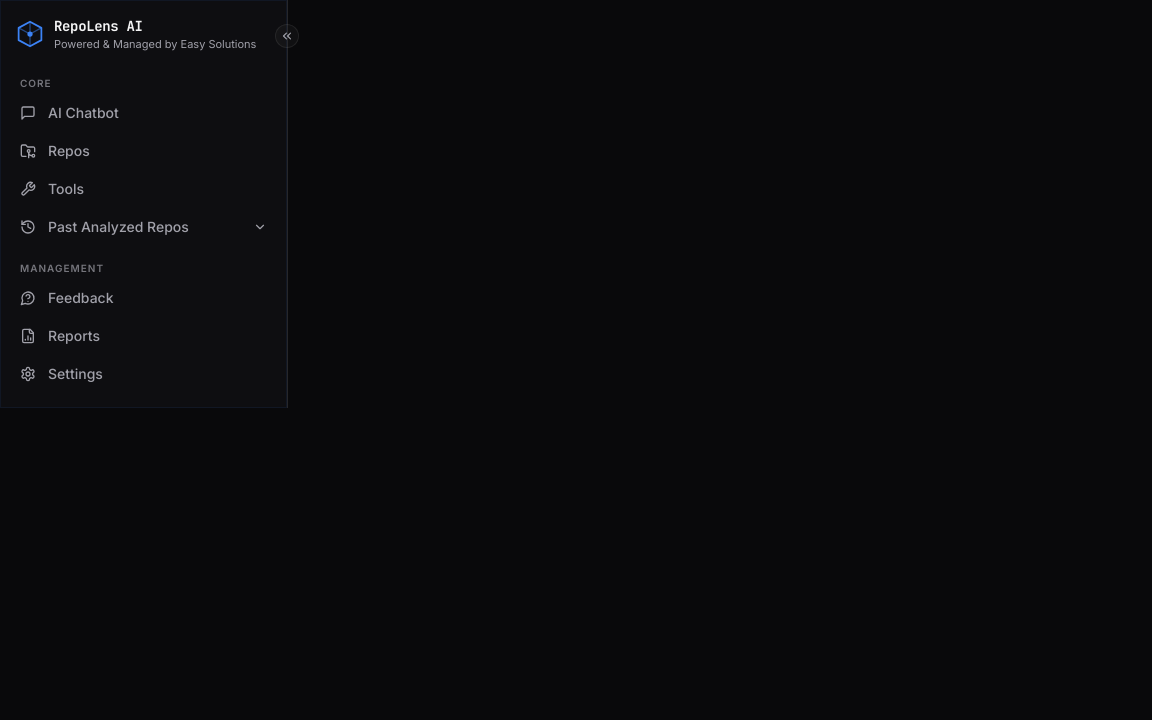
Test: AppSidebar › opens the Reports modal, scoped to the active repo, when Reports is clicked
What coordinates should you click on to do the following:
click the button "Reports"
I would click on:
 (74, 335)
Its box is x1=8 y1=318 x2=279 y2=354.
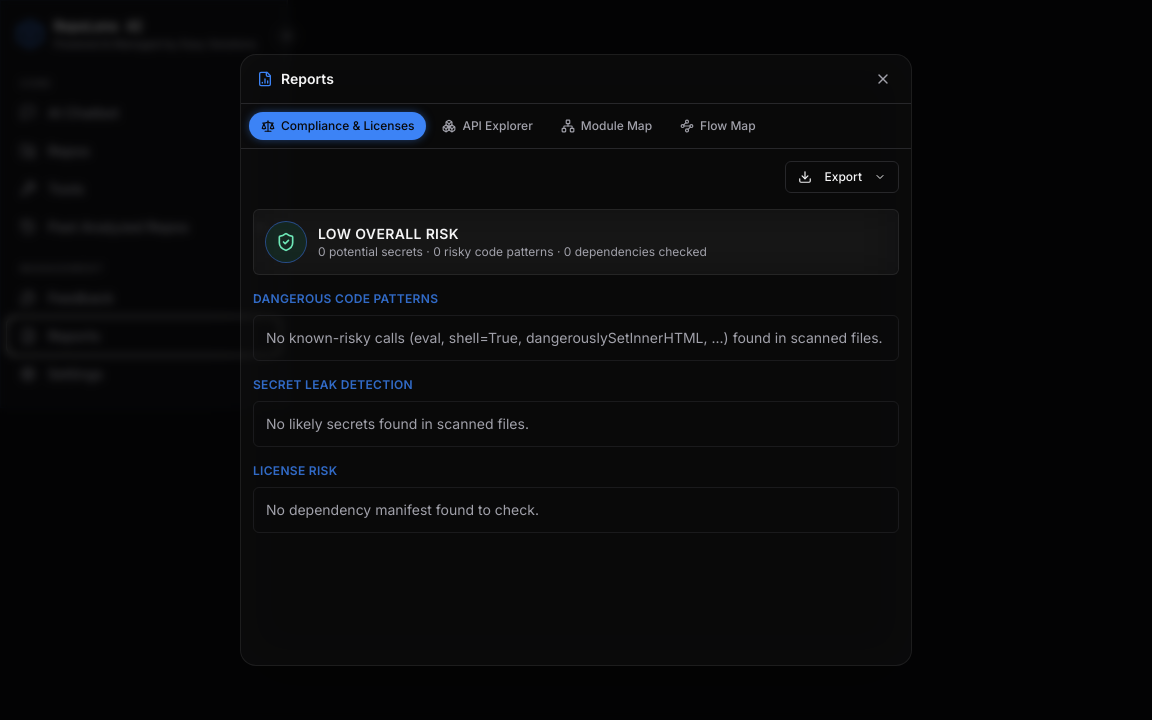
Result: the dialog "Reports" is shown at x1=240 y1=54 x2=912 y2=666
